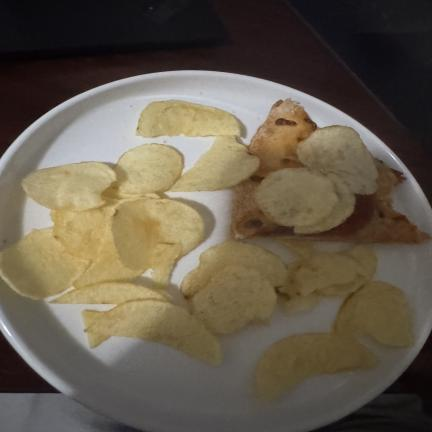chips: (87, 301, 221, 365), (255, 333, 377, 401), (0, 228, 89, 299), (181, 240, 287, 297), (191, 266, 276, 333), (297, 126, 377, 194), (279, 245, 376, 298), (335, 282, 413, 347), (255, 168, 338, 227), (171, 136, 259, 191), (22, 162, 115, 211), (73, 231, 146, 287), (137, 100, 240, 137), (294, 173, 355, 233), (114, 144, 183, 196), (111, 199, 159, 272), (145, 199, 204, 256), (51, 207, 114, 260), (294, 254, 358, 295), (51, 282, 170, 304), (150, 244, 181, 287), (341, 245, 377, 278), (317, 275, 368, 296), (279, 293, 318, 313), (275, 238, 314, 258), (82, 310, 103, 329)
pizza: (229, 98, 430, 245)
plate: (0, 243, 431, 431)
